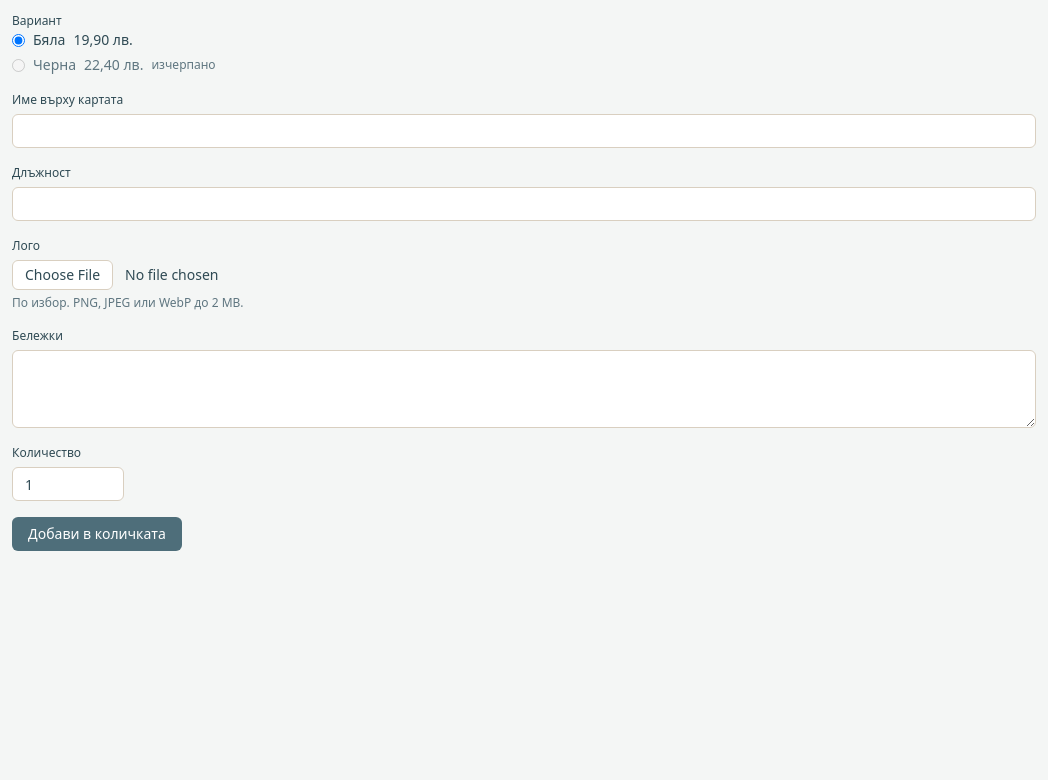
Scenario: AddToCartForm › stops an empty name and a bad quantity before the action
Replace the text in the number field labelled "Количество" with "21". click: (68, 484)
box: [12, 467, 124, 501]
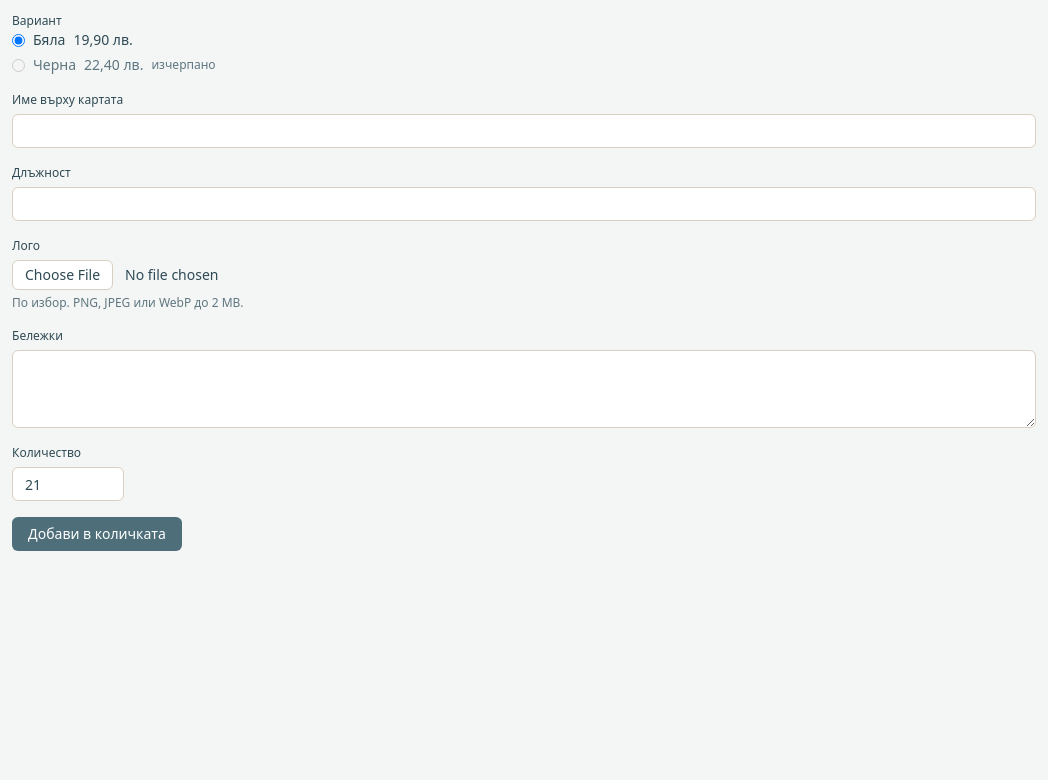
Submit the form from the button "Добави в количката", box [12, 517, 182, 551]
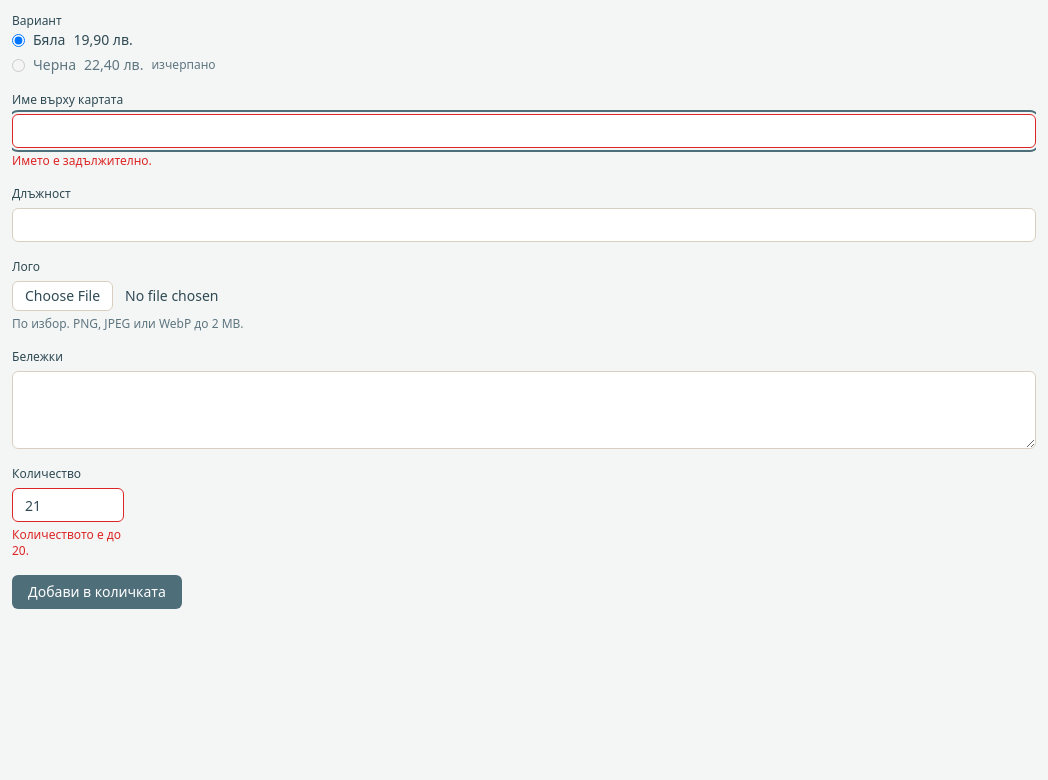
Expected: the text "Името е задължително." is shown, [12, 152, 152, 169]
Expected: the text "Количеството е до 20." is shown, [12, 527, 124, 559]
